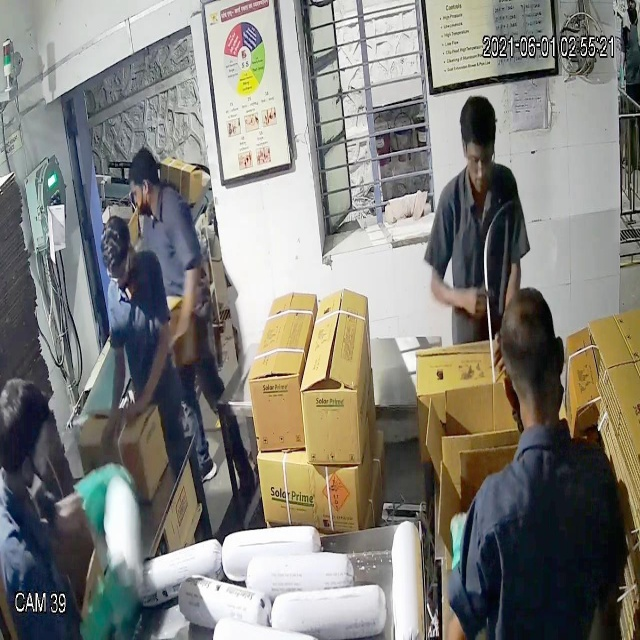Gafas: (460, 142, 497, 177)
